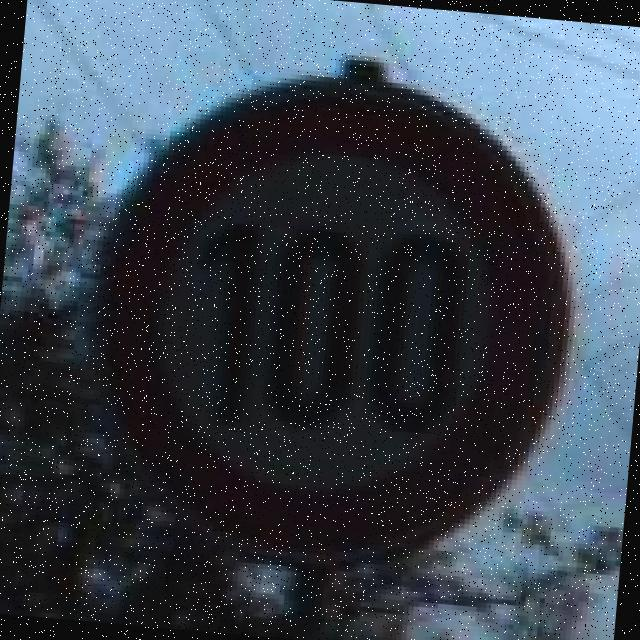Ograniczenie predkosci do 100: (36, 36, 610, 610)
